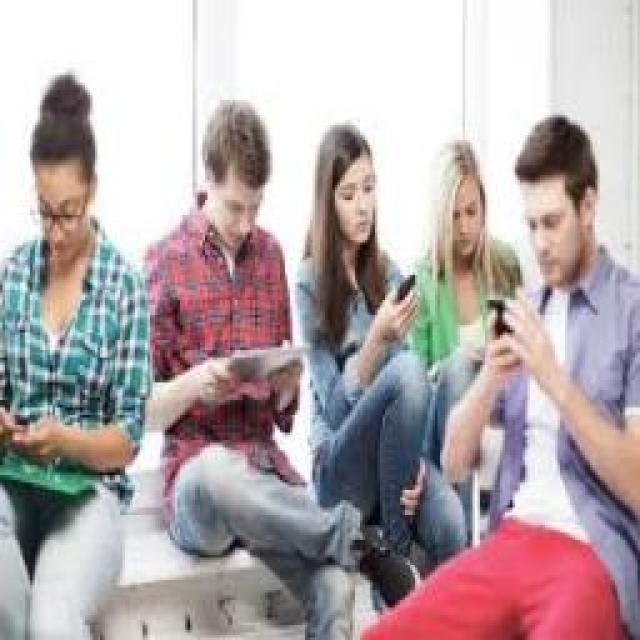phone: (442, 115, 640, 480), (0, 72, 150, 482), (298, 122, 418, 372)
